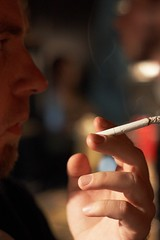cigarette: (94, 114, 160, 138)
